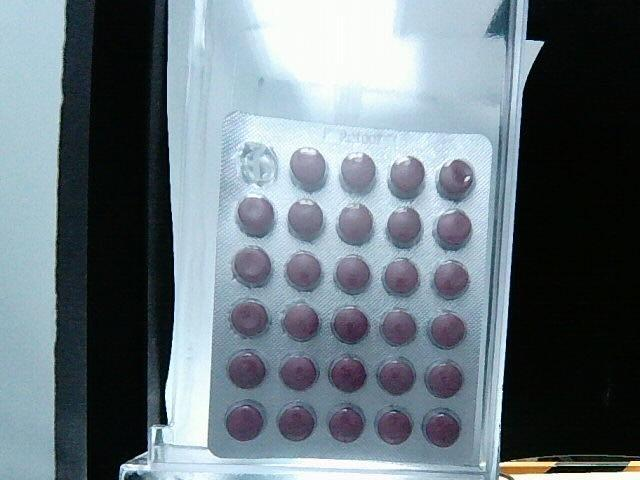Light Front: (206, 113, 494, 468)
No Pill Front: (233, 135, 280, 185)
Pill Front: (216, 235, 277, 292), (329, 250, 375, 303), (220, 348, 272, 394), (215, 400, 267, 445), (324, 353, 372, 401), (433, 155, 479, 205), (278, 250, 326, 297), (219, 300, 271, 343), (425, 309, 471, 355), (286, 198, 327, 248), (420, 358, 470, 399), (289, 144, 329, 194), (324, 303, 369, 346), (278, 306, 323, 347), (434, 208, 474, 254), (379, 258, 425, 298), (340, 148, 376, 199), (336, 204, 377, 247), (274, 356, 320, 394), (424, 408, 465, 450), (236, 193, 276, 236), (380, 310, 420, 353), (324, 405, 367, 445), (376, 360, 421, 398), (385, 208, 422, 254), (431, 264, 473, 302), (376, 406, 414, 448), (389, 155, 425, 198), (280, 401, 317, 441)
